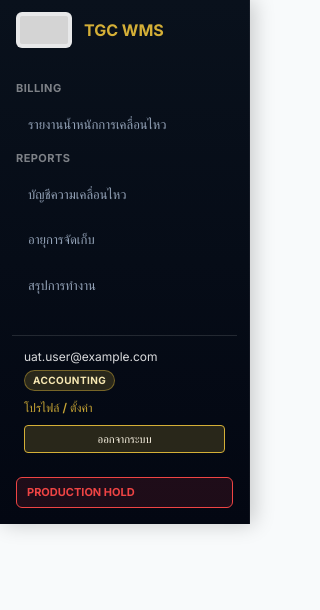
Test: Gate 3A.1 logout session behavior › shows safe error message when signOut fails
The width and height of the screenshot is (320, 610).
Click the button with test id "logout-button".
click(124, 439)  # box [24, 425, 225, 453]
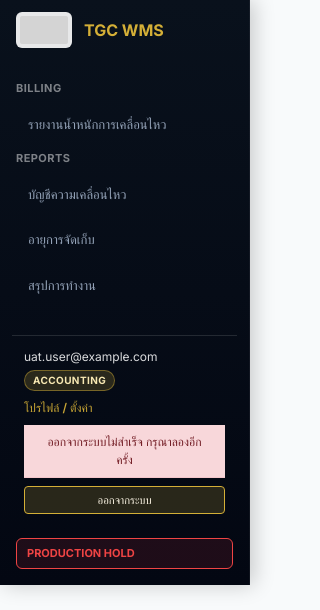
expect the message "ออกจากระบบไม่สำเร็จ กรุณาลองอีกครั้ง" is shown: met, box [24, 425, 225, 478]
